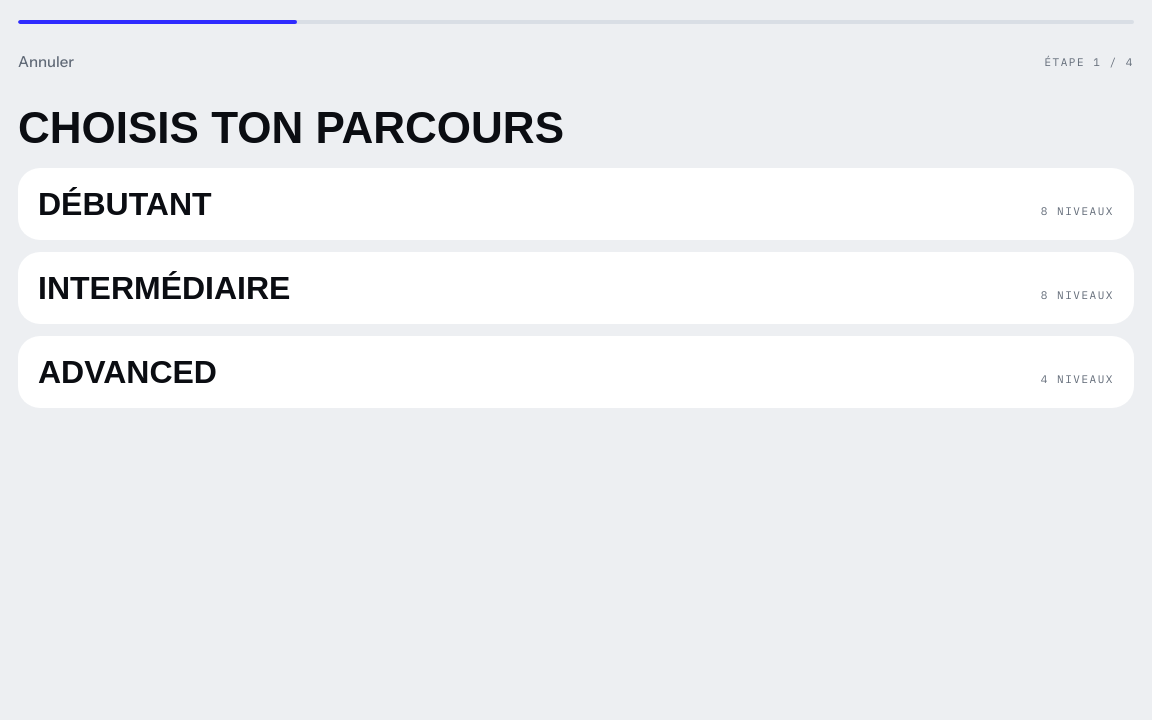
Test case: SetupFlow › disables rest days in the day-picker step
The width and height of the screenshot is (1152, 720).
What coordinates should you click on to do the following:
click the text "Débutant"
I would click on:
 (125, 204)
Its box is [38,188,212,220].
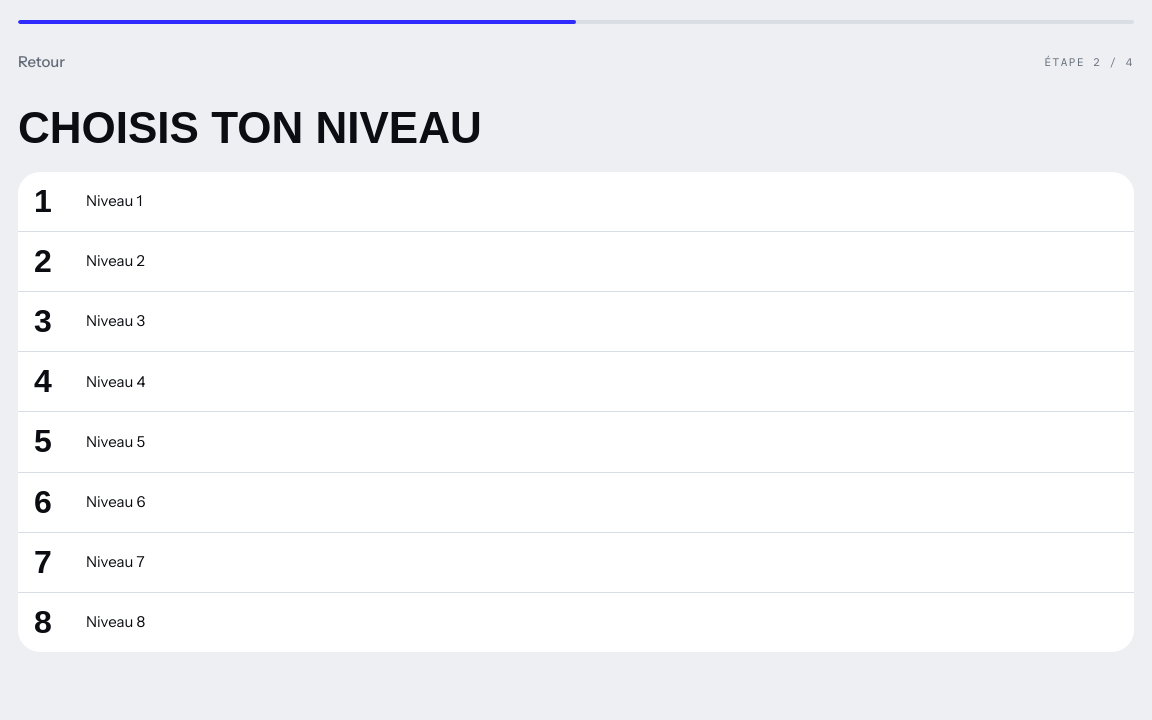
What coordinates should you click on to do the following:
click the text "Niveau 1"
I would click on:
 (114, 201)
Its box is [86,190,142,212].
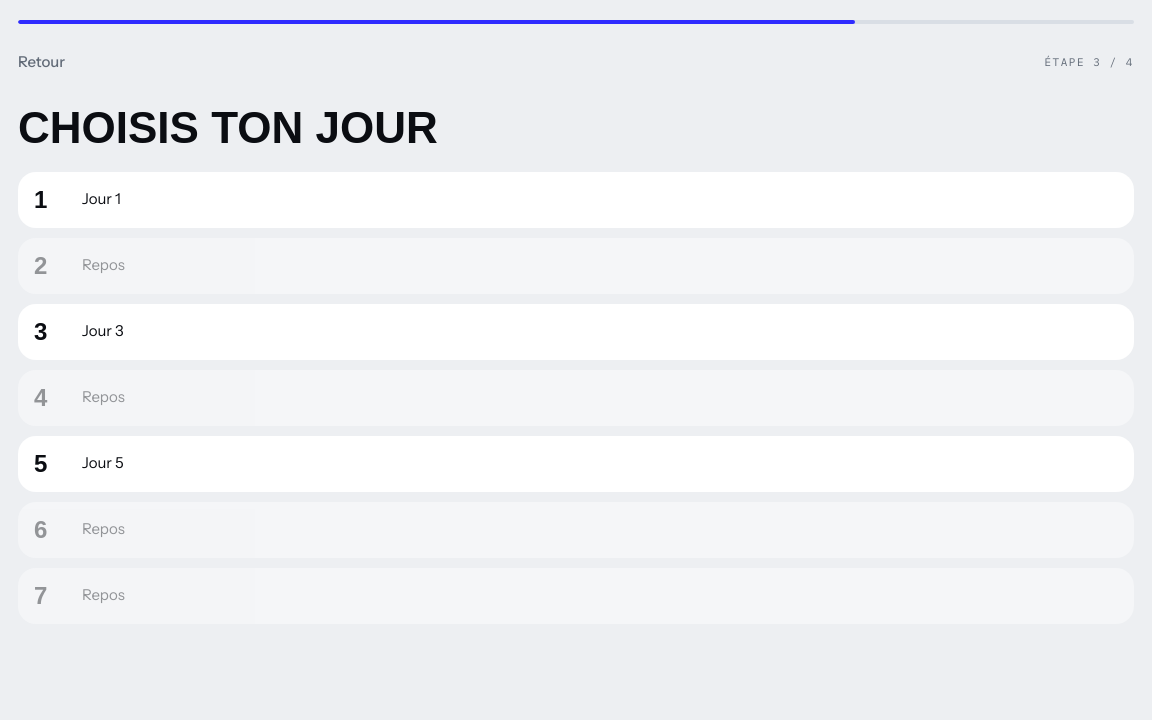
Result: the button "2 Repos" is disabled at [18,238,1134,294]
